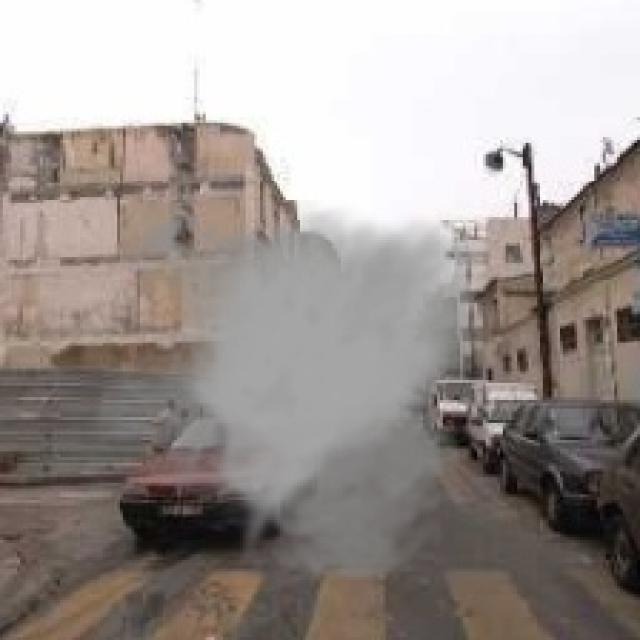smoke: (94, 200, 494, 586)
